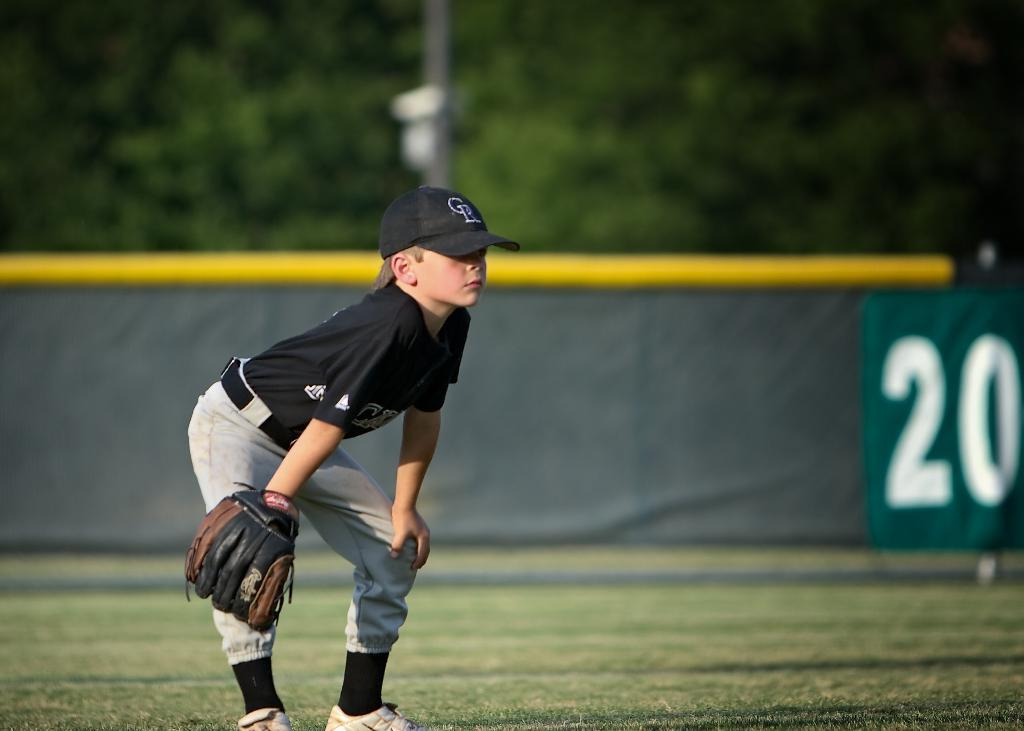Hat: (382, 183, 520, 258)
